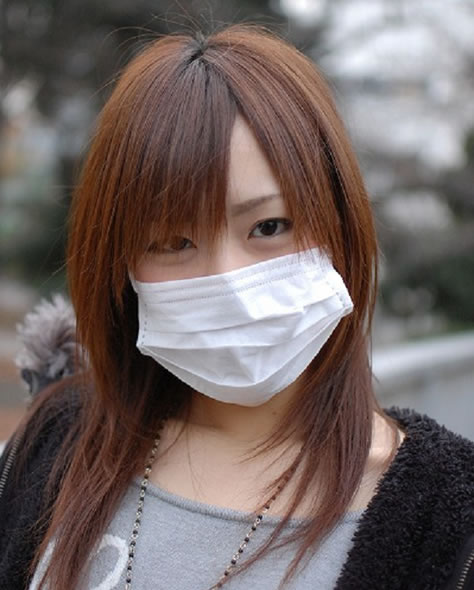mask: (126, 248, 373, 398)
